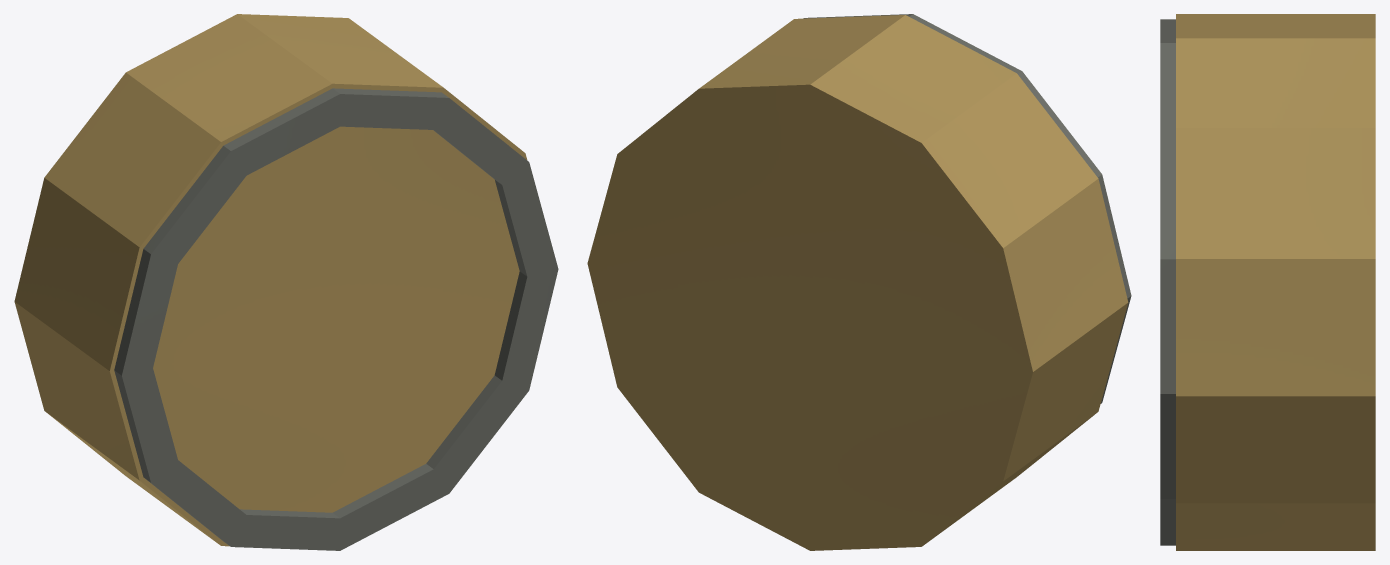
File: WarrensC_WVC033_DialBlank_Mars_SM.fbx
The picture shows the model from 3 angles, left to right: view 1: azimuth 30°, elevation 25°; view 2: azimuth 150°, elevation 25°; view 3: azimuth 270°, elevation 25°; orthographic projection. The views are drawn at different scales.
Parts seen in each view (by area): view 1: WarrensC_WVC033_DialBlank_Mars_SM.001; view 2: WarrensC_WVC033_DialBlank_Mars_SM.001; view 3: WarrensC_WVC033_DialBlank_Mars_SM.001.
Boxes of the visible parts, x1,y1,x2,y2 form: WarrensC_WVC033_DialBlank_Mars_SM.001: (14,14,558,550); WarrensC_WVC033_DialBlank_Mars_SM.001: (587,14,1131,550); WarrensC_WVC033_DialBlank_Mars_SM.001: (1160,14,1375,550).
Bounding box in the file's own units: 20 × 8 × 20.
